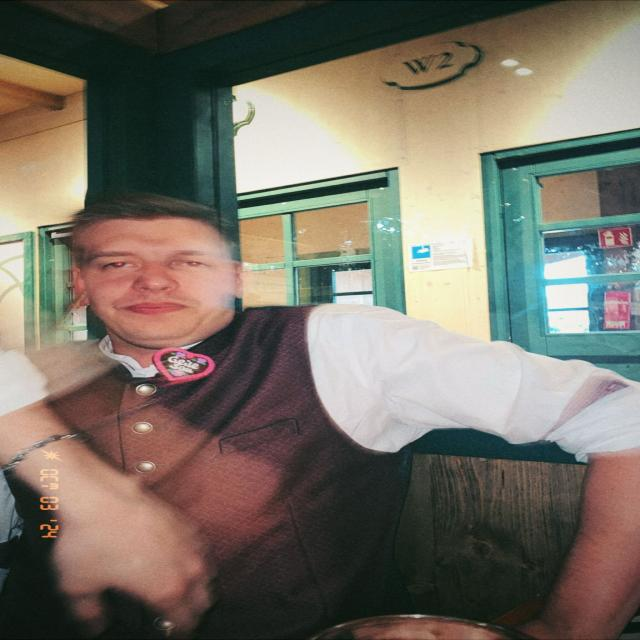JeremiasDiaz: (64, 194, 250, 349)
